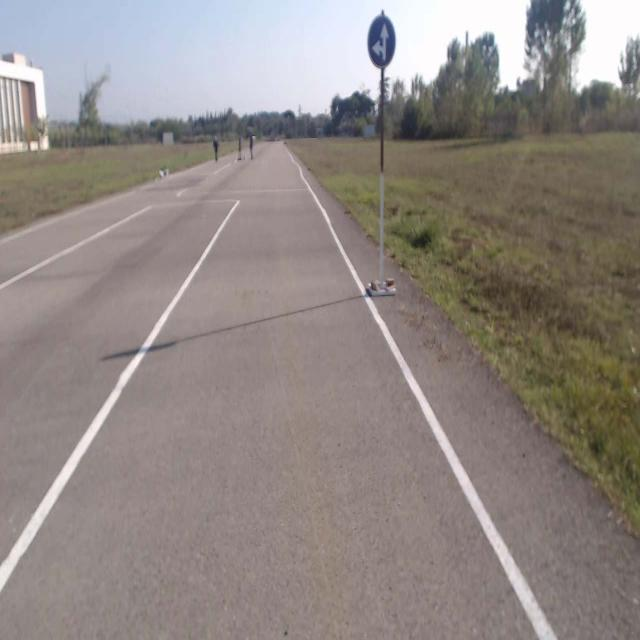ilerisol: (367, 16, 396, 68)
